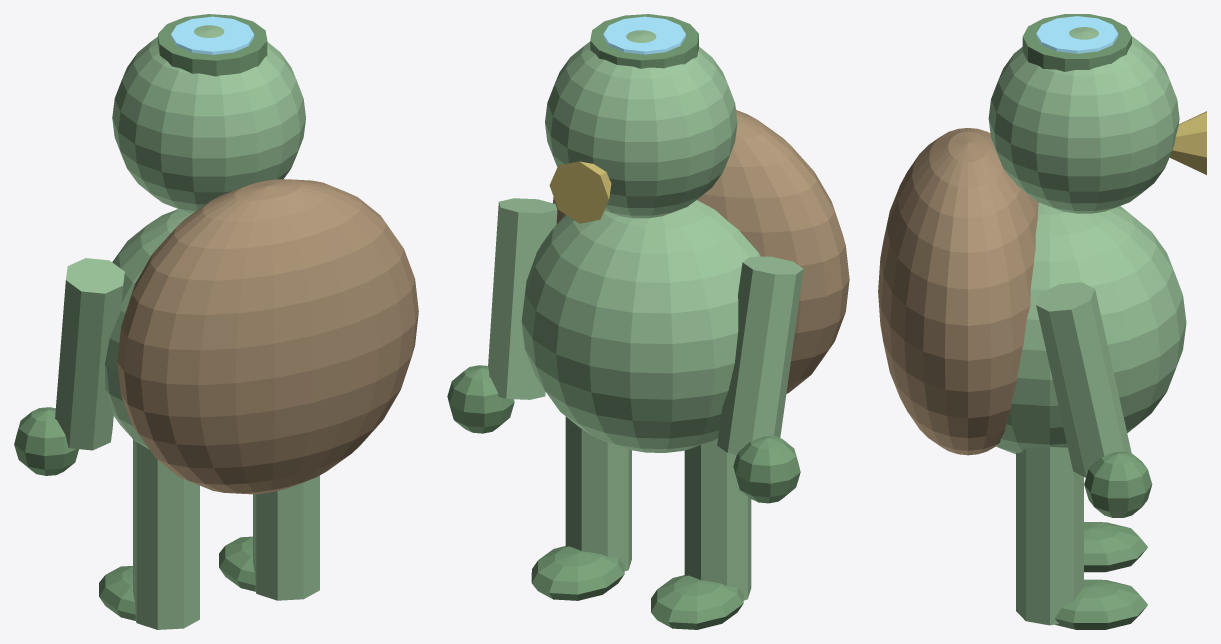
File: kappa.glb
3 renders of one model, left to right at view 1: azimuth 30°, elevation 25°; view 2: azimuth 150°, elevation 25°; view 3: azimuth 270°, elevation 25°, orthographic.
Visible parts, largest first — view 1: kappa; view 2: kappa; view 3: kappa.
Boxes of the visible parts, left/top/right/bottom form: kappa: left=14, top=14, right=418, bottom=629; kappa: left=447, top=14, right=849, bottom=629; kappa: left=878, top=14, right=1206, bottom=629.
Size of the model in its own units: 0.5751 by 0.91 by 0.482.
